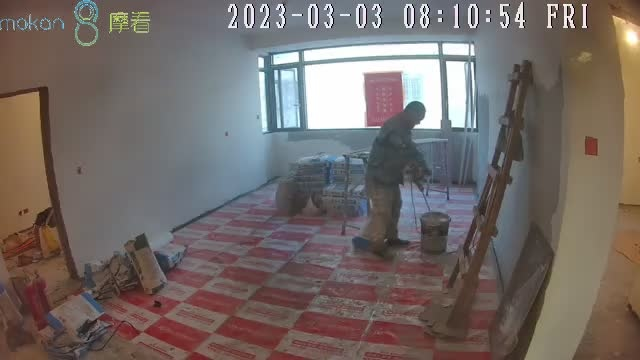people: (352, 102, 429, 259)
window: (257, 42, 477, 135)
